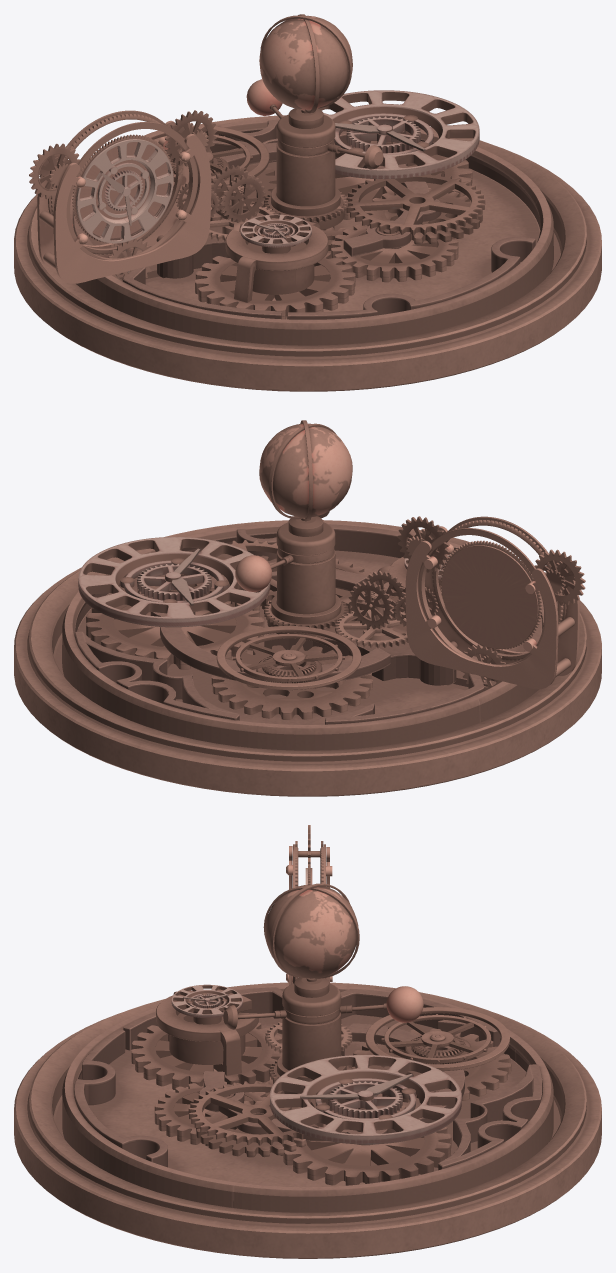
File: steampunk_prop.glb
3 views of the same model, one above another, from view 1: azimuth 30°, elevation 25°; view 2: azimuth 150°, elevation 25°; view 3: azimuth 270°, elevation 25° (orthographic).
Visible parts, largest first — view 1: Part_002, Part_003, Part_001; view 2: Part_002, Part_003, Part_001; view 3: Part_002, Part_003, Part_001.
Part boxes in pixels (<box>): Part_002: <box>14,115,601,391</box>; Part_003: <box>144,14,485,319</box>; Part_001: <box>29,110,278,283</box>; Part_002: <box>14,520,601,796</box>; Part_003: <box>78,420,457,719</box>; Part_001: <box>335,516,585,690</box>; Part_002: <box>14,982,601,1258</box>; Part_003: <box>131,883,511,1185</box>; Part_001: <box>265,825,352,1053</box>.
Size of the model in its own units: 17 by 7.62 by 16.26.
Materials: 3 (3 with a texture image).
